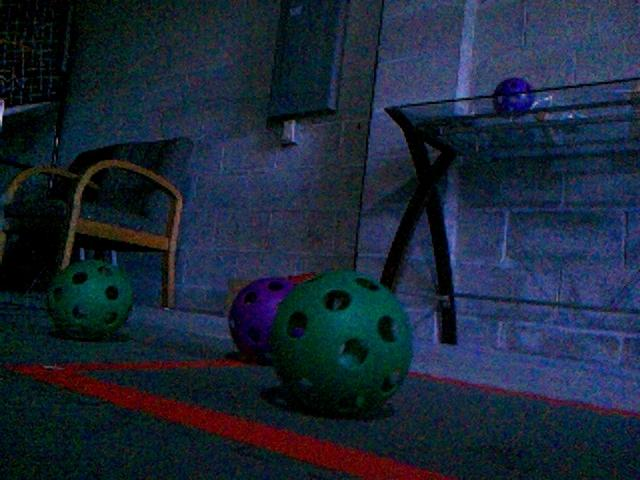Green: (267, 269, 414, 415), (42, 259, 134, 339)
Purple: (227, 274, 314, 365), (492, 77, 535, 116)
